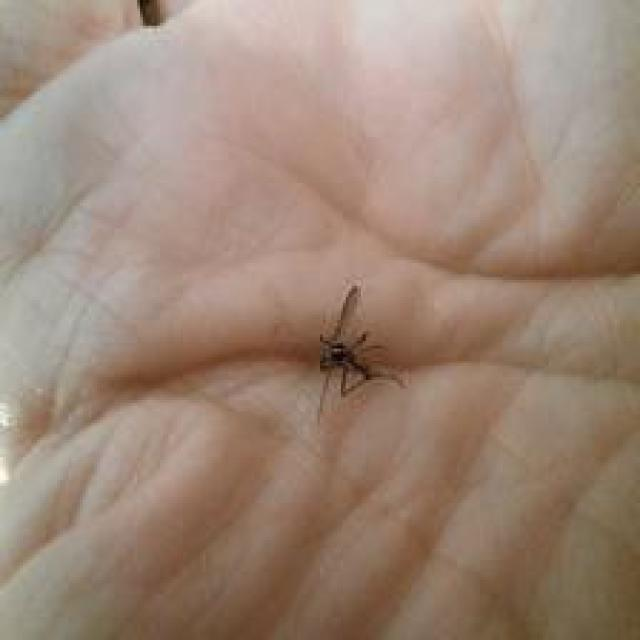Aedes albopictus: (313, 282, 407, 422)
